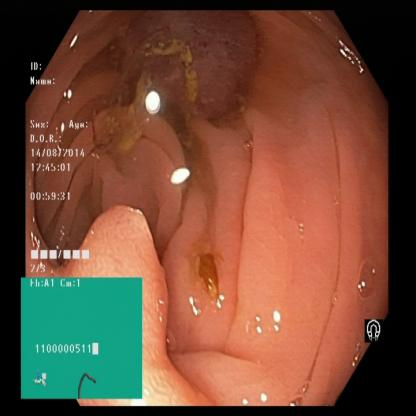Labels: (19, 278, 144, 406), (28, 56, 95, 276), (360, 304, 393, 356)
Polyps: (94, 207, 190, 346)
